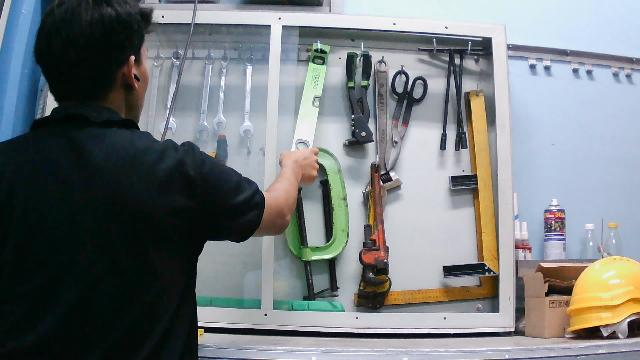water_pass: (289, 43, 333, 161)
